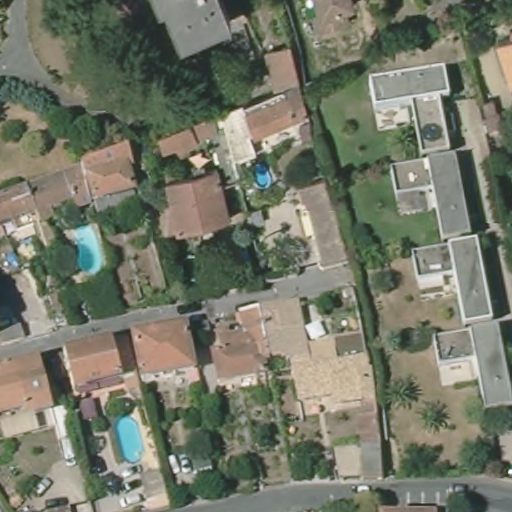pool: (68, 220, 105, 279), (110, 415, 148, 464), (249, 161, 273, 191)
